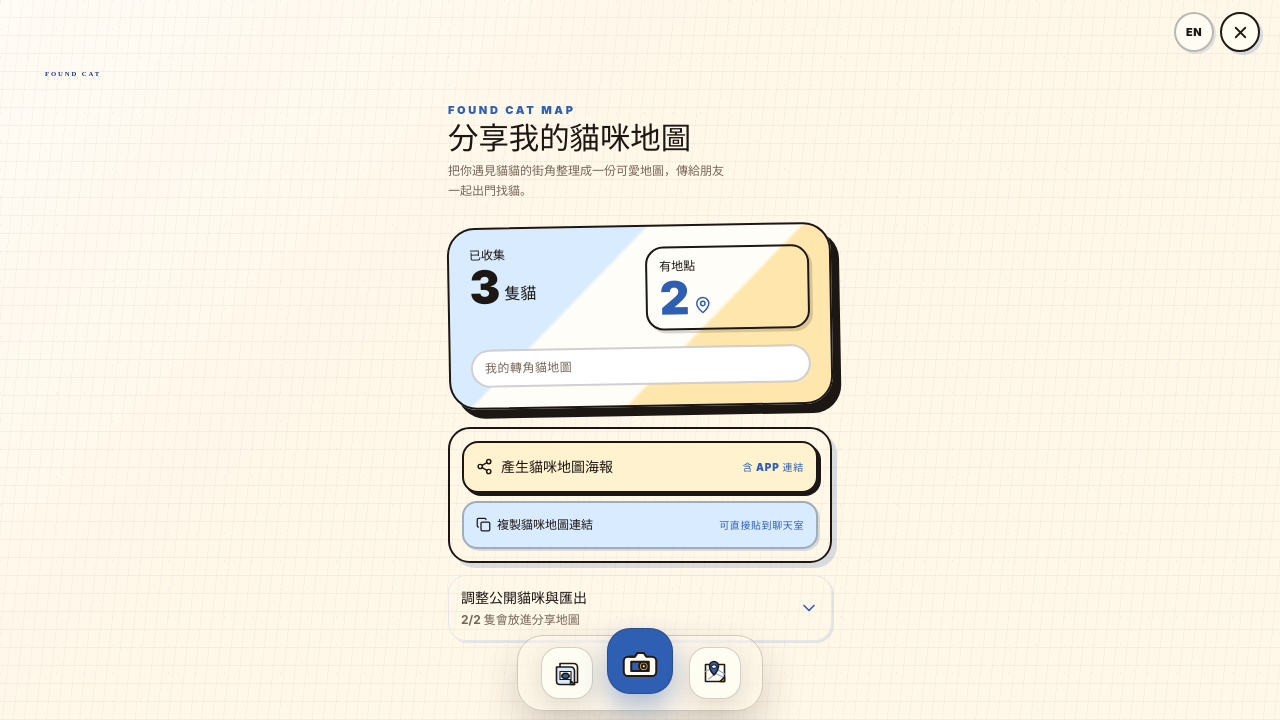
Test: ShareCatdex page › can switch the share map page into English
This screenshot has width=1280, height=720.
What coordinates should you click on to do the following:
click the button with aria-label "Switch to English"
I would click on:
 (1194, 32)
Its box is [1174, 12, 1214, 52].
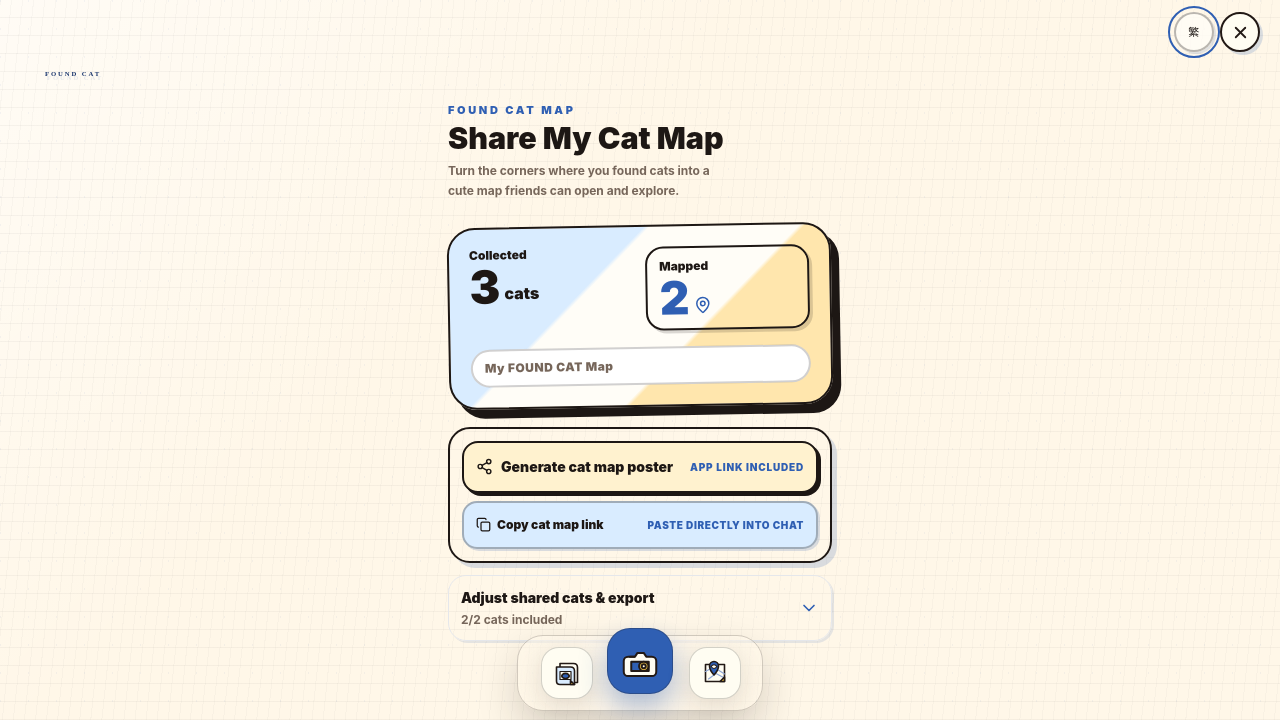
Expected: the heading "Share My Cat Map" is shown, [448, 120, 724, 156]
Expected: the text "Mapped" is shown, [659, 258, 708, 274]
Expected: the button "Generate cat map poster App link included" is shown, [462, 441, 818, 493]
